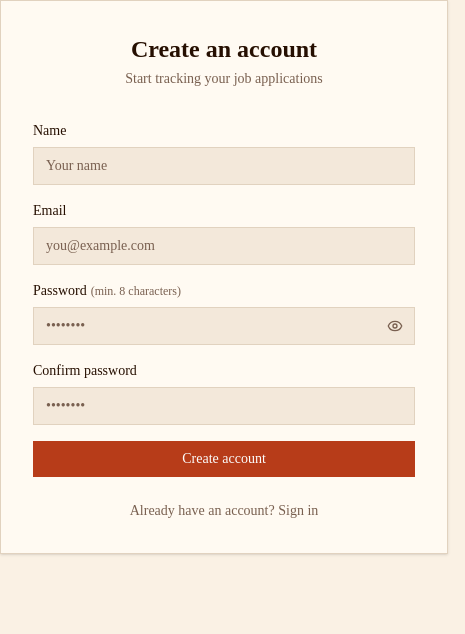
it: RegisterPage › shows error when name is empty
The width and height of the screenshot is (465, 634).
Click the button "Create account" at (224, 459), box [33,441,415,477]
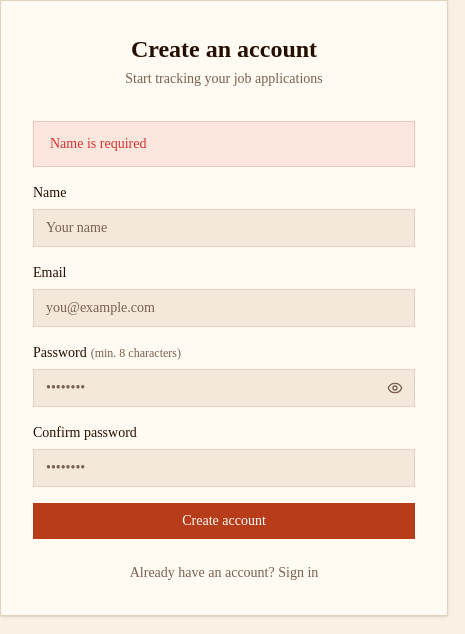
Expected: the message reads "Name is required", [50,136,146,151]
